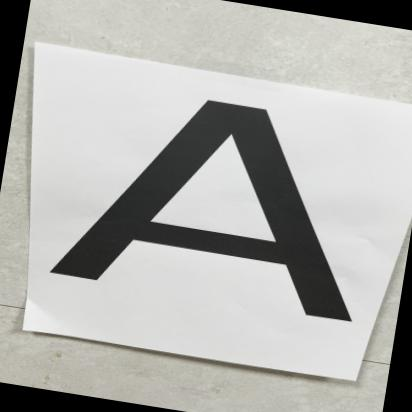seat: (34, 65, 412, 342)
